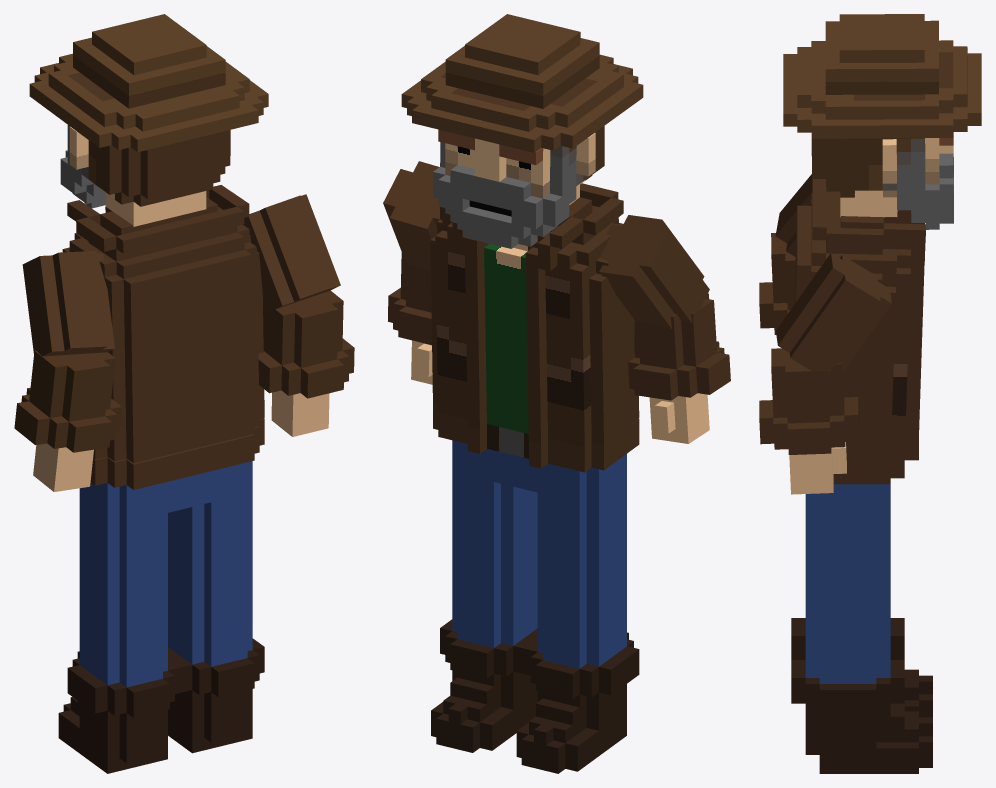
File: Idle.fbx
The picture shows the model from 3 angles, left to right: view 1: azimuth 30°, elevation 25°; view 2: azimuth 150°, elevation 25°; view 3: azimuth 270°, elevation 25°; orthographic projection.
Parts seen in each view (by area): view 1: Chest-local, Hat-local, head-local, Left Upper Leg-local, Left Lower Leg-local, Right Lower leg-local, Right Upper Leg-local, Left lower arm-local, left Upper Arm-local, Right Lower Arm-local, Right Upper Arm-local, Left Foot-local (+4 smaller); view 2: Chest-local, Hat-local, head-local, Left Lower Leg-local, Left Upper Leg-local, Right Lower leg-local, Right Upper Leg-local, left Upper Arm-local, Left lower arm-local, Left Foot-local, Right Foot-local, Hips-local (+4 smaller); view 3: Hat-local, Chest-local, head-local, Right Lower leg-local, Right Upper Leg-local, Right Upper Arm-local, Right Lower Arm-local, Right Foot-local, Left lower arm-local, right Hand-local, Hips-local, Left Lower Leg-local (+2 smaller).
Part boxes in pixels (bbox=[...]): Chest-local: bbox=[62, 185, 264, 463]; Hat-local: bbox=[29, 14, 268, 152]; head-local: bbox=[60, 61, 230, 226]; Left Upper Leg-local: bbox=[79, 477, 186, 611]; Left Lower Leg-local: bbox=[67, 589, 179, 725]; Right Lower leg-local: bbox=[168, 571, 264, 704]; Right Upper Leg-local: bbox=[168, 461, 252, 590]; Left lower arm-local: bbox=[14, 350, 122, 452]; left Upper Arm-local: bbox=[22, 251, 114, 356]; Right Lower Arm-local: bbox=[258, 290, 354, 398]; Right Upper Arm-local: bbox=[243, 194, 340, 312]; Left Foot-local: bbox=[58, 697, 167, 773]; Chest-local: bbox=[430, 183, 639, 448]; Hat-local: bbox=[401, 14, 643, 152]; head-local: bbox=[433, 73, 604, 248]; Left Lower Leg-local: bbox=[525, 570, 639, 707]; Left Upper Leg-local: bbox=[518, 454, 626, 592]; Right Lower leg-local: bbox=[440, 552, 537, 686]; Right Upper Leg-local: bbox=[452, 440, 537, 571]; left Upper Arm-local: bbox=[599, 215, 709, 329]; Left lower arm-local: bbox=[628, 293, 730, 400]; Left Foot-local: bbox=[516, 685, 626, 773]; Right Foot-local: bbox=[431, 670, 537, 752]; Hips-local: bbox=[433, 403, 639, 472]; Hat-local: bbox=[783, 14, 981, 138]; Chest-local: bbox=[794, 179, 925, 459]; head-local: bbox=[811, 52, 953, 229]; Right Lower leg-local: bbox=[791, 601, 904, 722]; Right Upper Leg-local: bbox=[805, 484, 890, 606]; Right Upper Arm-local: bbox=[776, 253, 891, 375]; Right Lower Arm-local: bbox=[759, 348, 859, 454]; Right Foot-local: bbox=[805, 703, 932, 773]; Left lower arm-local: bbox=[759, 233, 795, 334]; right Hand-local: bbox=[789, 442, 846, 494]; Hips-local: bbox=[833, 436, 918, 484]; Left Lower Leg-local: bbox=[791, 618, 904, 659].
Size of the model in its own units: 2635 by 5495 by 1569.
